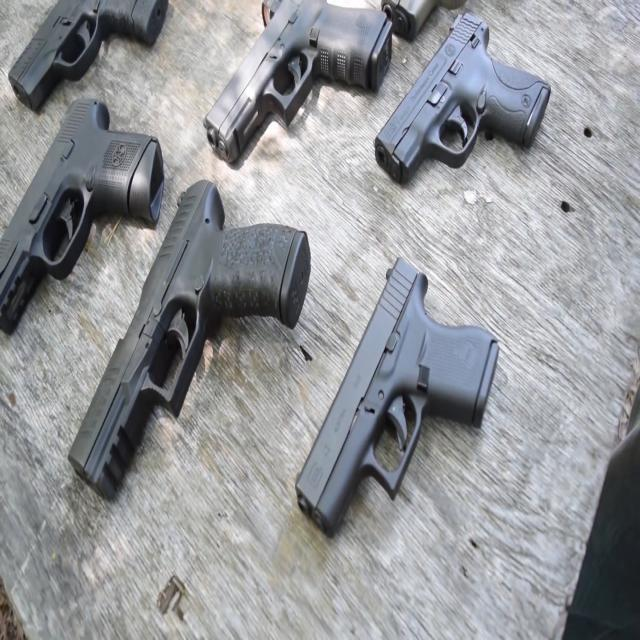handgun: (52, 180, 332, 481), (272, 248, 501, 525), (0, 115, 186, 379), (361, 2, 559, 209), (192, 8, 398, 177), (9, 0, 190, 158)
